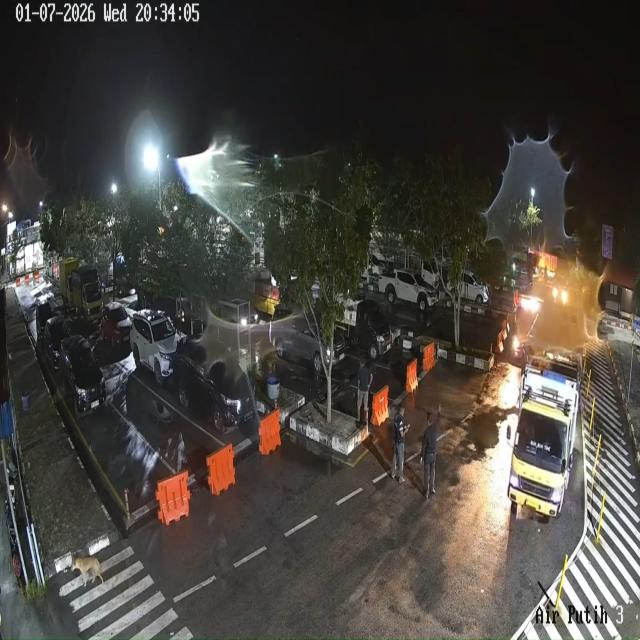Golongan IVA: (174, 338, 257, 434), (268, 303, 346, 374), (59, 335, 106, 418), (130, 309, 179, 386), (41, 315, 70, 371), (100, 302, 132, 347), (36, 301, 54, 343)
Golongan IVB: (378, 270, 439, 312)
Golongan VB: (507, 354, 581, 517), (59, 258, 102, 322)
